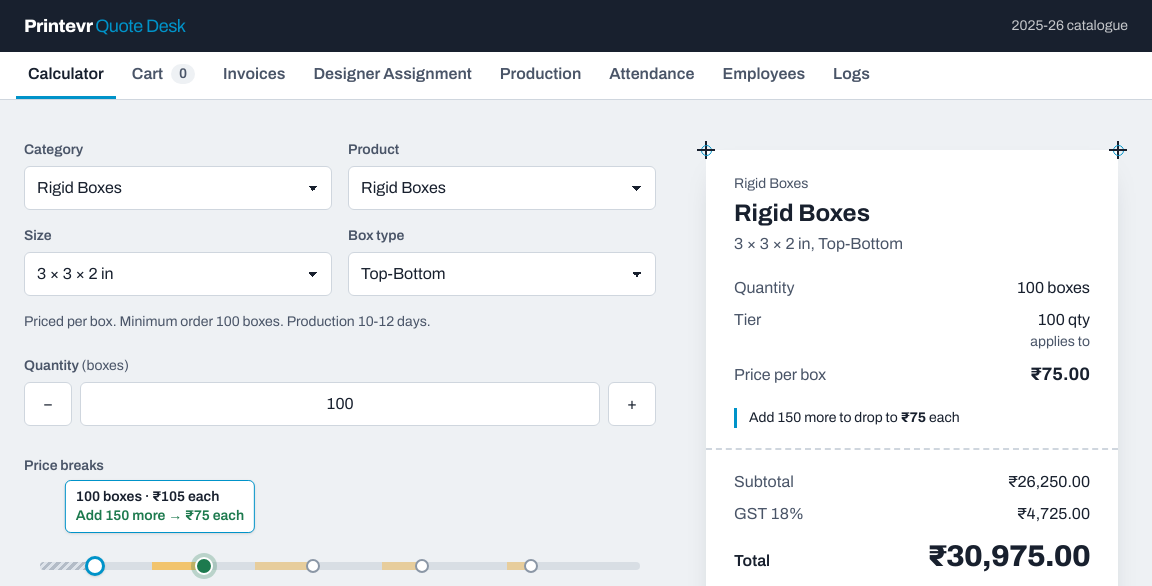
Test: tier slider in the calculator › S11: dragging 100 to 2,000 for 3 s updates the chip every frame and quotes once, after the pause
Press the mouse on the slider: x=340, y=566 [40, 556, 640, 576]
Wait 3408 ms
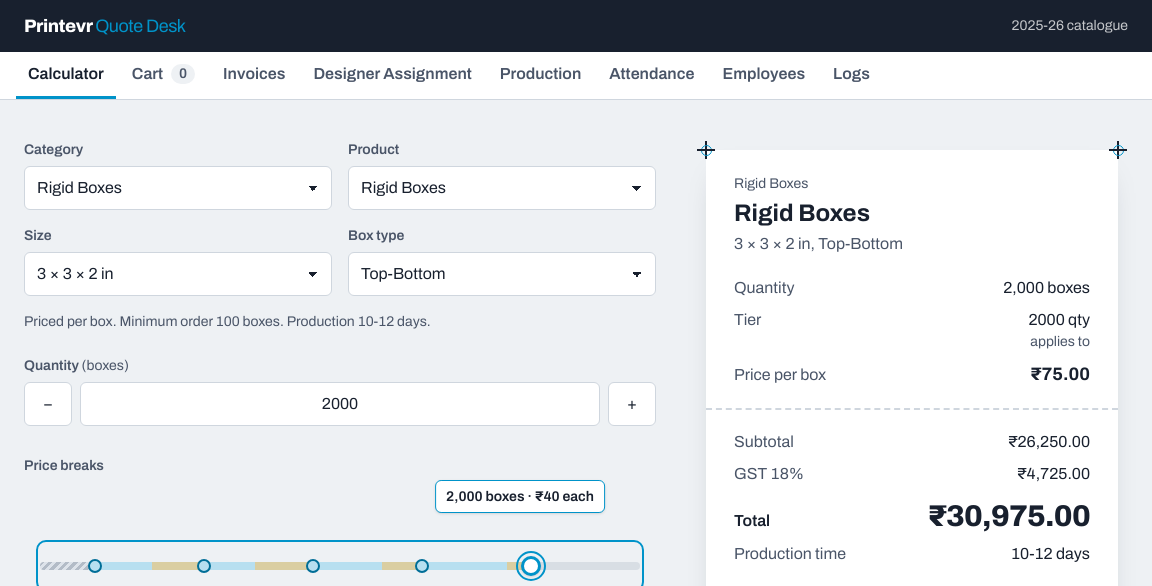
Now the field labelled "Quantity (boxes)" holds "2000", box [80, 382, 600, 426]
